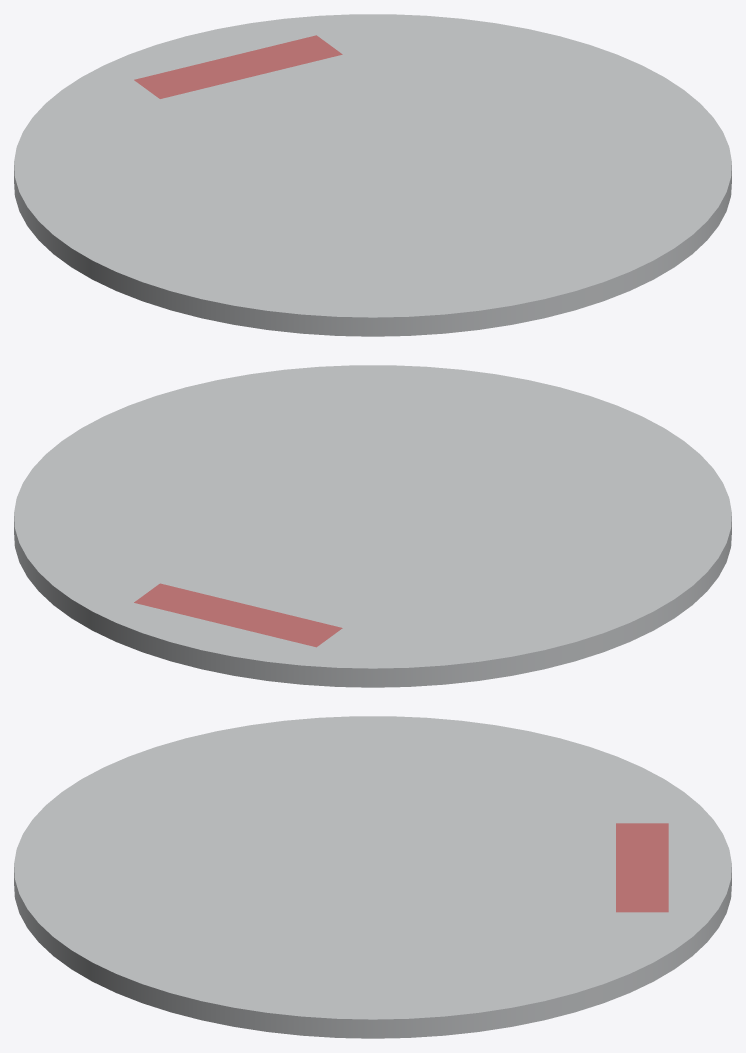
The model's file is step_02.glb.
3 views of the same model, one above another, from view 1: azimuth 30°, elevation 25°; view 2: azimuth 150°, elevation 25°; view 3: azimuth 270°, elevation 25° (orthographic).
Visible parts, largest first — view 1: part__equipment mounting plate, removed__equipment mounting plate; view 2: part__equipment mounting plate, removed__equipment mounting plate; view 3: part__equipment mounting plate, removed__equipment mounting plate.
Boxes of the visible parts, bbox=[...] form: part__equipment mounting plate: bbox=[14, 14, 731, 336]; removed__equipment mounting plate: bbox=[134, 35, 342, 98]; part__equipment mounting plate: bbox=[14, 365, 731, 687]; removed__equipment mounting plate: bbox=[134, 583, 342, 647]; part__equipment mounting plate: bbox=[14, 716, 731, 1038]; removed__equipment mounting plate: bbox=[616, 823, 668, 912].
Bounding box in the file's own units: 272 × 8 × 272.
